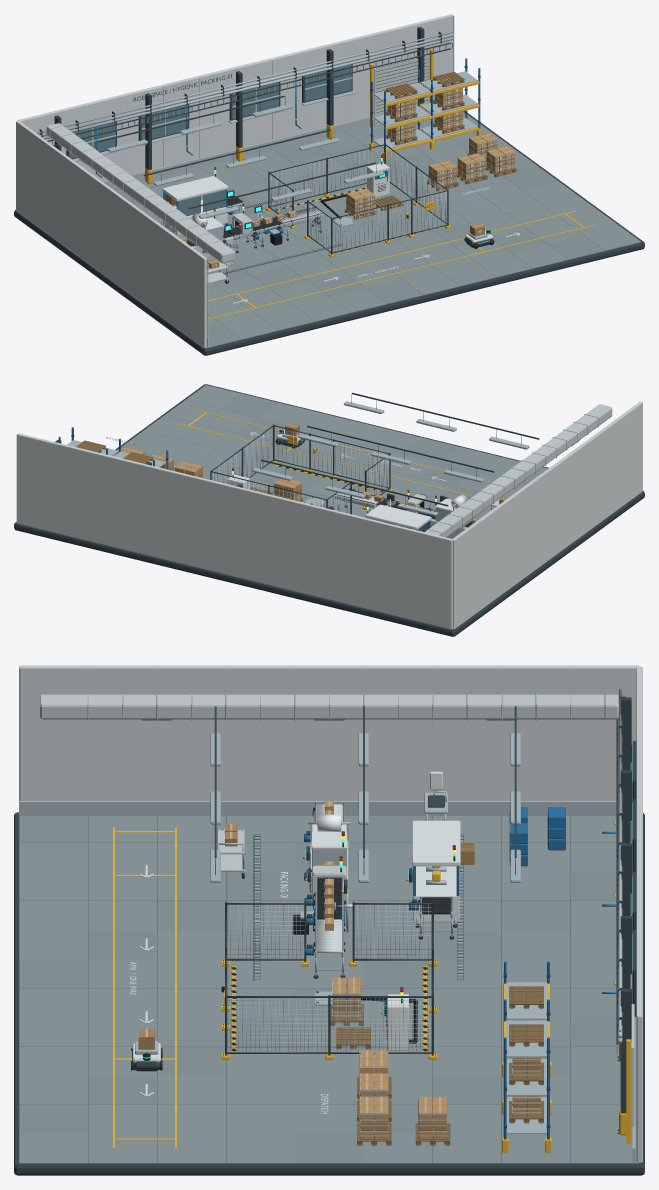
Rendered from factory.glb.
3 views of the same model, one above another, from view 1: azimuth 30°, elevation 25°; view 2: azimuth 150°, elevation 25°; view 3: azimuth 270°, elevation 25° (orthographic). The views are drawn at different scales.
Parts seen in each view (by area): view 1: floor__epoxy, envelope__wall, floor__floor_alt, hall__darksteel, safety_cell__steel, hvac__brushed, utilities__steel, windows__glass, warehouse_rack__steel, envelope__steel, structure__darksteel, lighting__steel (+19 smaller); view 2: envelope__wall, floor__epoxy, hall__darksteel, floor__floor_alt, hvac__brushed, safety_cell__steel, lighting__steel, lighting__darksteel, safety_cell__darksteel, cartoner__white, traffic__yellow, dispatch_pallets__carton_alt (+3 smaller); view 3: floor__epoxy, envelope__wall, floor__floor_alt, hvac__brushed, hall__darksteel, envelope__steel, safety_cell__steel, cartoner__white, structure__darksteel, warehouse_rack__steel, dispatch_pallets__carton_alt, lighting__steel (+22 smaller).
Boxes of the visible parts, <box> form: floor__epoxy: <box>131,111,640,339</box>; envelope__wall: <box>16,14,453,348</box>; floor__floor_alt: <box>112,140,604,348</box>; hall__darksteel: <box>14,111,644,355</box>; safety_cell__steel: <box>269,146,446,251</box>; hvac__brushed: <box>46,123,234,263</box>; utilities__steel: <box>36,31,453,144</box>; windows__glass: <box>68,65,351,158</box>; warehouse_rack__steel: <box>373,71,477,149</box>; envelope__steel: <box>103,102,429,347</box>; structure__darksteel: <box>54,27,424,170</box>; lighting__steel: <box>107,104,384,218</box>; envelope__wall: <box>16,401,642,629</box>; floor__epoxy: <box>122,385,548,629</box>; hall__darksteel: <box>14,384,644,636</box>; floor__floor_alt: <box>113,394,485,519</box>; hvac__brushed: <box>425,404,612,537</box>; safety_cell__steel: <box>211,427,389,513</box>; lighting__steel: <box>252,401,529,516</box>; lighting__darksteel: <box>260,392,539,511</box>; safety_cell__darksteel: <box>210,424,392,514</box>; cartoner__white: <box>365,504,431,529</box>; traffic__yellow: <box>176,410,519,496</box>; dispatch_pallets__carton_alt: <box>121,447,202,477</box>; floor__epoxy: <box>19,816,639,1163</box>; envelope__wall: <box>19,665,642,1162</box>; floor__floor_alt: <box>19,816,636,1163</box>; hvac__brushed: <box>40,694,618,721</box>; hall__darksteel: <box>14,812,644,1175</box>; envelope__steel: <box>19,801,635,1162</box>; safety_cell__steel: <box>227,905,431,1052</box>; cartoner__white: <box>412,820,460,922</box>; structure__darksteel: <box>617,697,631,1133</box>; warehouse_rack__steel: <box>506,982,546,1134</box>; dispatch_pallets__carton_alt: <box>360,1050,446,1139</box>; lighting__steel: <box>210,733,520,882</box>.
Size of the model in its own units: 24.3 by 5.04 by 18.3.
